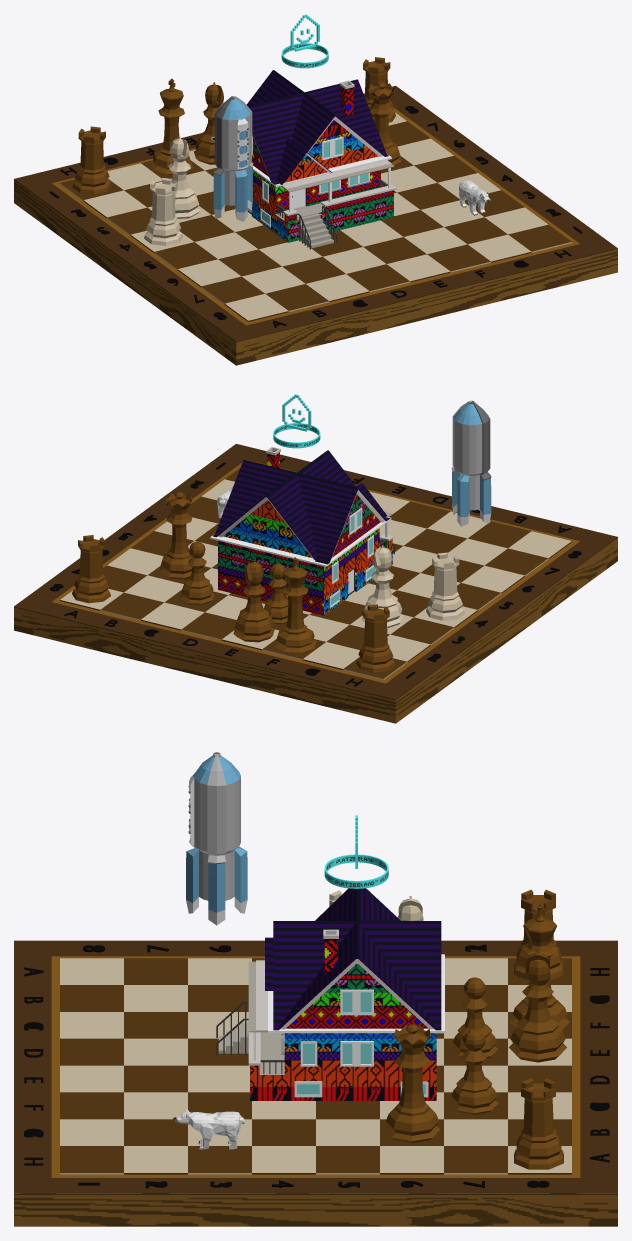
3 renders of one model, top to bottom at view 1: azimuth 30°, elevation 25°; view 2: azimuth 150°, elevation 25°; view 3: azimuth 270°, elevation 25°, orthographic. The views are drawn at different scales.
Visible parts, largest first — view 1: Cube.002, Cube.966, OBJRANDOM_ROCKETSHIP, TYPE_PREMIUM, ANIMAL_OSO_POLAR; view 2: Cube.002, Cube.966, OBJRANDOM_ROCKETSHIP, TYPE_PREMIUM; view 3: Cube.002, Cube.966, OBJRANDOM_ROCKETSHIP, ANIMAL_OSO_POLAR, TYPE_PREMIUM.
Part boxes in pixels (x1=…): Cube.002: x1=14, y1=57, x2=617, y2=365; Cube.966: x1=211, y1=70, x2=396, y2=249; OBJRANDOM_ROCKETSHIP: x1=213, y1=96, x2=253, y2=221; TYPE_PREMIUM: x1=281, y1=14, x2=328, y2=68; ANIMAL_OSO_POLAR: x1=459, y1=180, x2=490, y2=215; Cube.002: x1=14, y1=444, x2=617, y2=723; Cube.966: x1=210, y1=447, x2=394, y2=615; OBJRANDOM_ROCKETSHIP: x1=451, y1=400, x2=491, y2=526; TYPE_PREMIUM: x1=273, y1=394, x2=320, y2=448; Cube.002: x1=14, y1=889, x2=617, y2=1226; Cube.966: x1=216, y1=888, x2=444, y2=1100; OBJRANDOM_ROCKETSHIP: x1=186, y1=752, x2=247, y2=925; ANIMAL_OSO_POLAR: x1=173, y1=1109, x2=244, y2=1149; TYPE_PREMIUM: x1=324, y1=815, x2=388, y2=888.
Size of the model in its own units: 3981 by 2279 by 4012.
33 materials, 7 textured.
